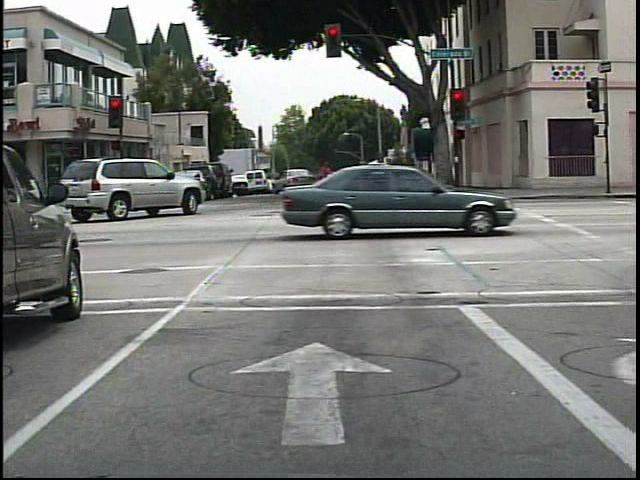person: (312, 159, 341, 203)
